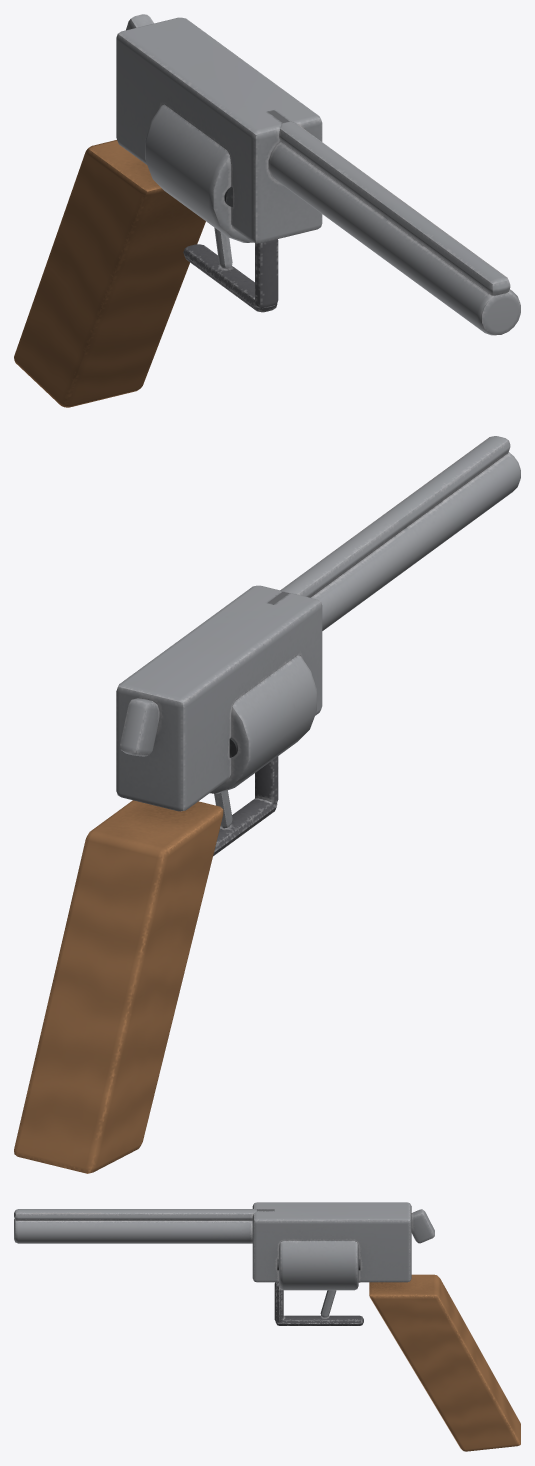
The picture shows the model from 3 angles, top to bottom: view 1: azimuth 30°, elevation 25°; view 2: azimuth 150°, elevation 25°; view 3: azimuth 270°, elevation 25°; orthographic projection. The views are drawn at different scales.
Parts seen in each view (by area): view 1: r8; view 2: r8; view 3: r8.
Boxes of the visible parts, x1,y1,x2,y2 form: r8: (14,14,520,407); r8: (14,436,520,1173); r8: (14,1202,520,1451).
Size of the model in its own units: 0.0394 by 0.1447 by 0.2868.
